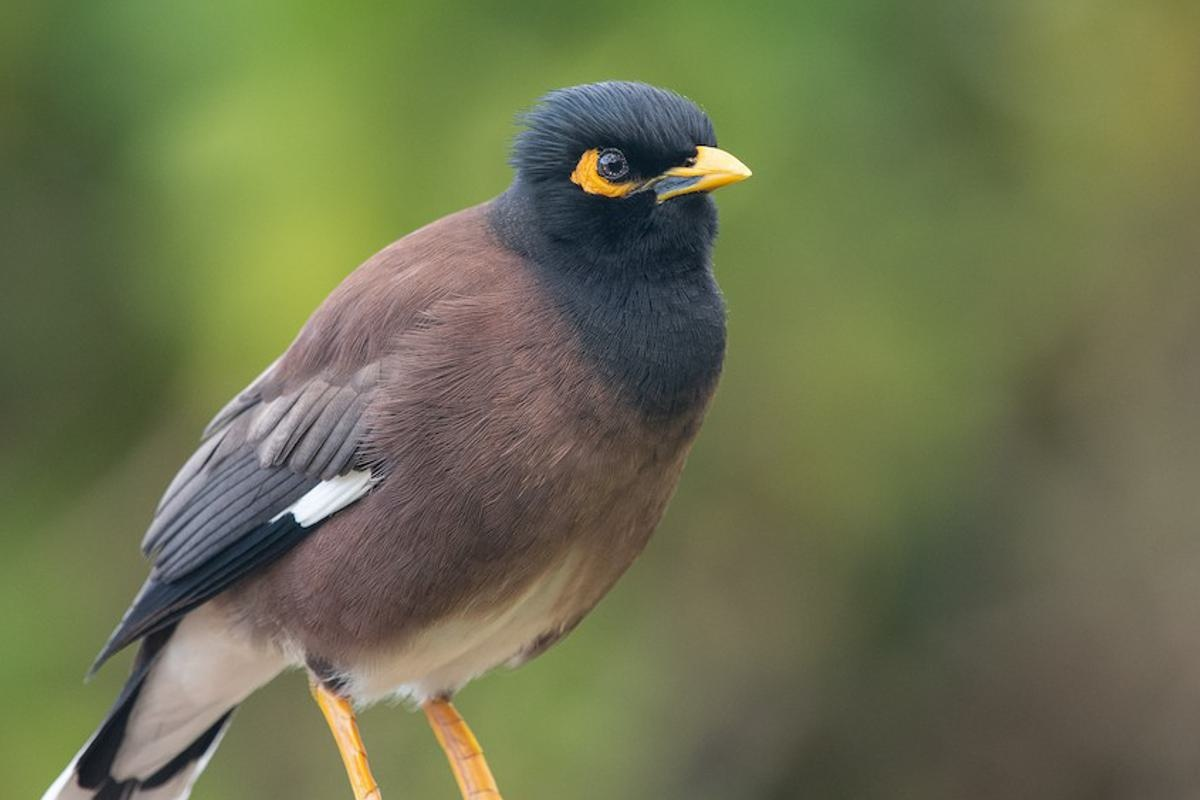myna: (168, 47, 803, 776)
